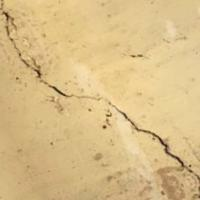crack: (0, 11, 199, 193)
